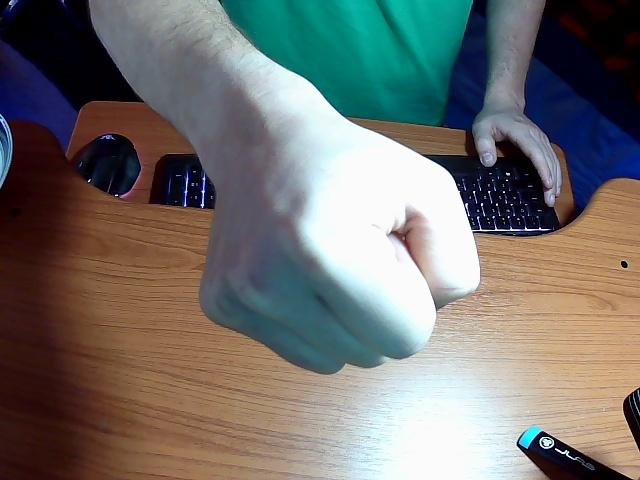rock: (182, 71, 479, 372)
